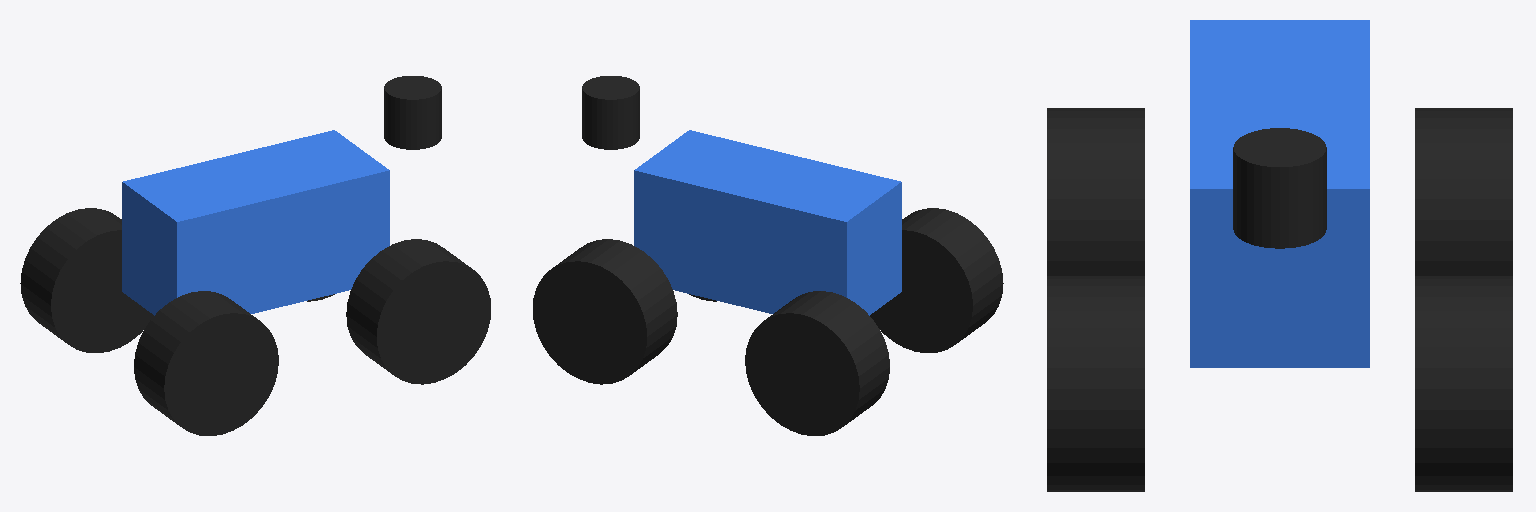
robot.urdf — rc-car:
<?xml version="1.0" ?>
<!-- =================================================================================== -->
<!-- |    This document was autogenerated by xacro from rc-car-model.xacro             | -->
<!-- |    EDITING THIS FILE BY HAND IS NOT RECOMMENDED                                 | -->
<!-- =================================================================================== -->
<!-- A simple model of the rc-car for rviz -->
<!-- urdf-viz for quick viewing-->
<robot name="rc-car" xmlns:xacro="http://www.ros.org/wiki/xacro">
  <material name="black">
    <color rgba="0.2 0.2 0.2 1"/>
  </material>
  <material name="blue">
    <color rgba="0.3 0.57 1. 1"/>
  </material>
  


  ### base link
  
  <link name="base_link">
    <visual>
      <origin xyz="0.111 0 0.125"/>
      <geometry>
        <box size="0.222 0.1 0.11"/>
      </geometry>
      <material name="blue"/>
    </visual>
  </link>
  

  ### laser
  
  <joint name="base_to_laser_model" type="fixed">
    <parent link="base_link"/>
    <child link="laser_model"/>
    <origin xyz="0.275 0 0.205"/>
  </joint>
  <link name="laser_model">
    <visual>
      <geometry>
        <cylinder length="0.05" radius="0.026"/>
      </geometry>
      <material name="black"/>
    </visual>
  </link>
  

  ### Back left wheel
  
  <joint name="base_to_back_left_wheel" type="continuous">
    <parent link="base_link"/>
    <child link="back_left_wheel"/>
    <origin xyz="0 0.1025 0.06"/>
    <axis xyz="0 1 0"/>
  </joint>
  <link name="back_left_wheel">
    <visual>
      <geometry>
        <cylinder length="0.055" radius="0.06"/>
      </geometry>
      <material name="black"/>
      <origin rpy="1.57079632679 0 0"/>
    </visual>
  </link>
  

  ### Back right wheel
  
  <joint name="base_to_back_right_wheel" type="continuous">
    <parent link="base_link"/>
    <child link="back_right_wheel"/>
    <origin xyz="0 -0.1025 0.06"/>
    <axis xyz="0 1 0"/>
  </joint>
  <link name="back_right_wheel">
    <visual>
      <geometry>
        <cylinder length="0.055" radius="0.06"/>
      </geometry>
      <material name="black"/>
      <origin rpy="1.57079632679 0 0"/>
    </visual>
  </link>
  

  ### Front right wheel
  
  <joint name="base_to_front_left_hinge" type="continuous">
    <parent link="base_link"/>
    <child link="front_left_hinge"/>
    <origin xyz="0.222 0.1025 0.06"/>
    <axis xyz="0 0 1"/>
  </joint>
  <link name="front_left_hinge"/>
  <joint name="front_left_hinge_to_wheel" type="continuous">
    <parent link="front_left_hinge"/>
    <child link="front_left_wheel"/>
    <axis xyz="0 1 0"/>
    <orign xyz="0 0.0275 0"/>
  </joint>
  <link name="front_left_wheel">
    <visual>
      <geometry>
        <cylinder length="0.055" radius="0.06"/>
      </geometry>
      <material name="black"/>
      <origin rpy="1.57079632679 0 0"/>
    </visual>
  </link>
  

  ### Front left wheel
  
  <joint name="base_to_front_right_hinge" type="continuous">
    <parent link="base_link"/>
    <child link="front_right_hinge"/>
    <origin xyz="0.222 -0.075 0.06"/>
    <axis xyz="0 0 1"/>
  </joint>
  <link name="front_right_hinge"/>
  <joint name="front_right_hinge_to_wheel" type="continuous">
    <parent link="front_right_hinge"/>
    <child link="front_right_wheel"/>
    <axis xyz="0 1 0"/>
    <origin xyz="0 -0.0275 0"/>
  </joint>
  <link name="front_right_wheel">
    <visual>
      <geometry>
        <cylinder length="0.055" radius="0.06"/>
      </geometry>
      <material name="black"/>
      <origin rpy="1.57079632679 0 0"/>
    </visual>
  </link>
</robot>

--- Render facts (derived) ---
The picture shows the robot from 3 angles, left to right: view 1: azimuth 30°, elevation 25°; view 2: azimuth 150°, elevation 25°; view 3: azimuth 270°, elevation 25°; orthographic projection.
Model rc-car with 8 links and 7 joints (6 continuous, 1 fixed), rooted at base_link, posed every joint at zero.
Visible links, largest first — view 1: base_link, front_right_wheel, back_right_wheel, back_left_wheel, laser_model; view 2: base_link, front_left_wheel, back_left_wheel, back_right_wheel, laser_model; view 3: base_link, front_left_wheel, front_right_wheel, back_left_wheel, back_right_wheel, laser_model.
Link boxes in pixels (bbox=[...]): base_link: bbox=[122, 130, 389, 315]; front_right_wheel: bbox=[346, 239, 490, 384]; back_right_wheel: bbox=[134, 291, 278, 435]; back_left_wheel: bbox=[20, 208, 153, 352]; laser_model: bbox=[384, 76, 441, 149]; base_link: bbox=[634, 130, 901, 315]; front_left_wheel: bbox=[533, 239, 677, 384]; back_left_wheel: bbox=[745, 291, 889, 435]; back_right_wheel: bbox=[870, 208, 1003, 352]; laser_model: bbox=[582, 76, 639, 149]; base_link: bbox=[1190, 20, 1369, 367]; front_left_wheel: bbox=[1415, 276, 1512, 491]; front_right_wheel: bbox=[1047, 276, 1144, 491]; back_left_wheel: bbox=[1415, 108, 1512, 275]; back_right_wheel: bbox=[1047, 108, 1144, 275]; laser_model: bbox=[1233, 128, 1326, 248].
Size in the robot's own frame: 0.361 by 0.26 by 0.23 metres.
Geometry: primitives only (box / cylinder / sphere), no mesh files.